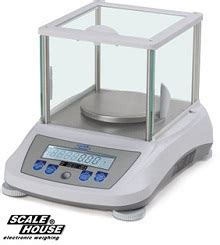Industrial Scale: (2, 1, 213, 222)
